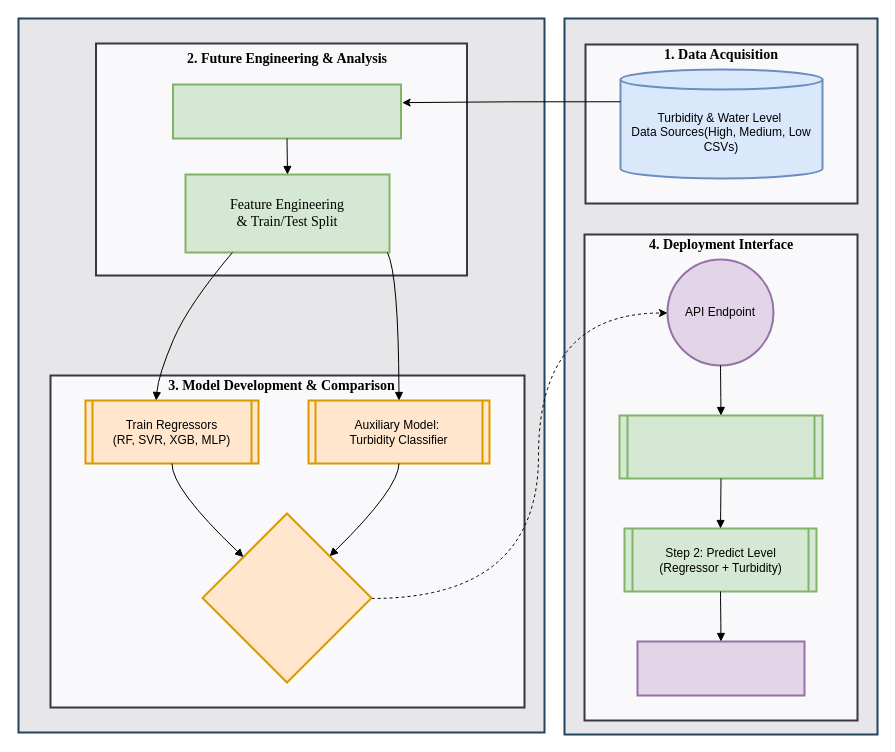
Image size: 895x752. Some labels were removed from this diagram. The centre of each missing label's shape, as x and y in pixels:
Clean, Tag & Normalize: the point at 287,111
Evaluate Models: the point at 286,597
JSON Response: the point at 720,668
Step 1: Detect Turbidity (Classifier): the point at 720,446
